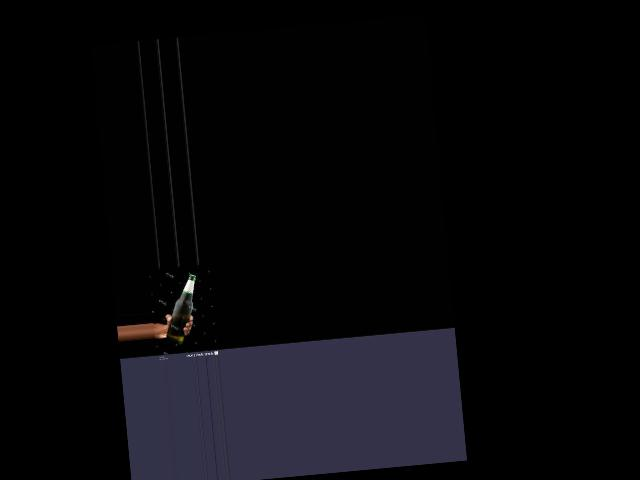beer: (160, 273, 202, 345)
